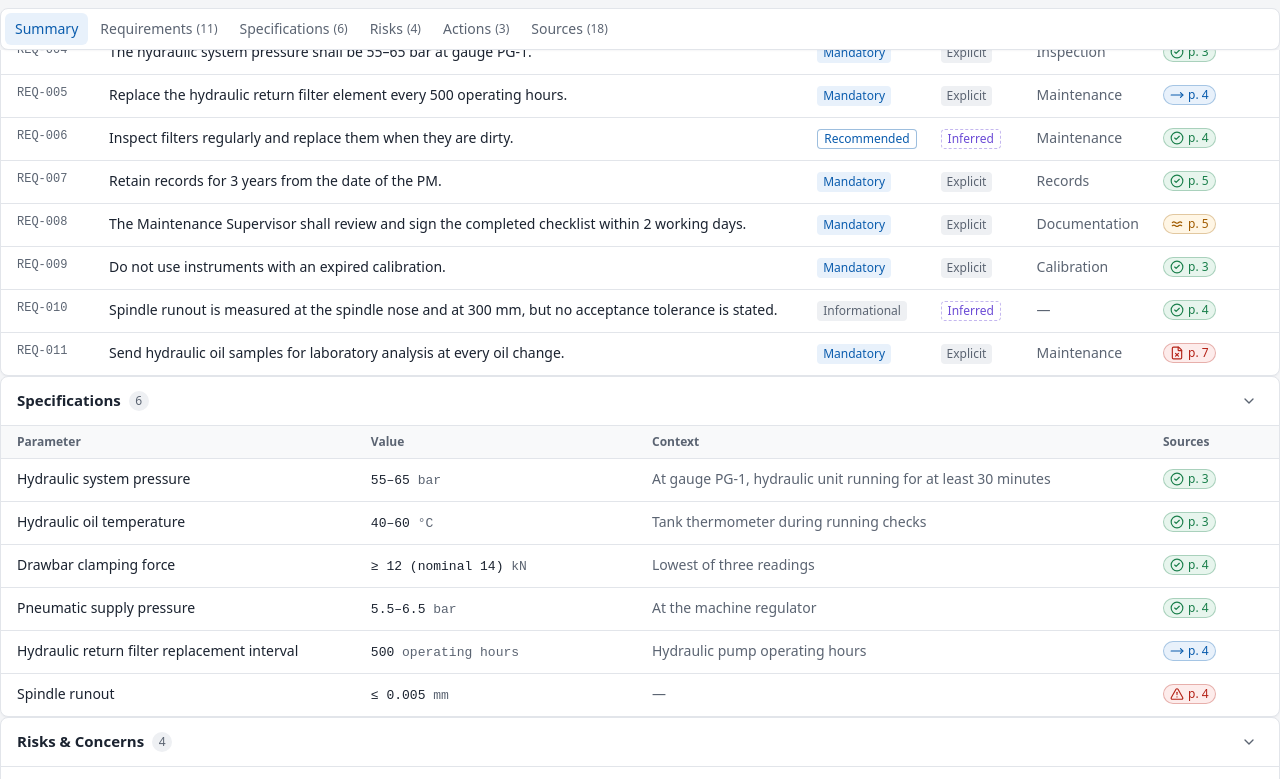
ReportView › collapses and expands a section
The width and height of the screenshot is (1280, 779).
(page scrolled)
Click the button named "Collapse Specifications" at (1249, 401), box x1=1235 y1=387 x2=1263 y2=415
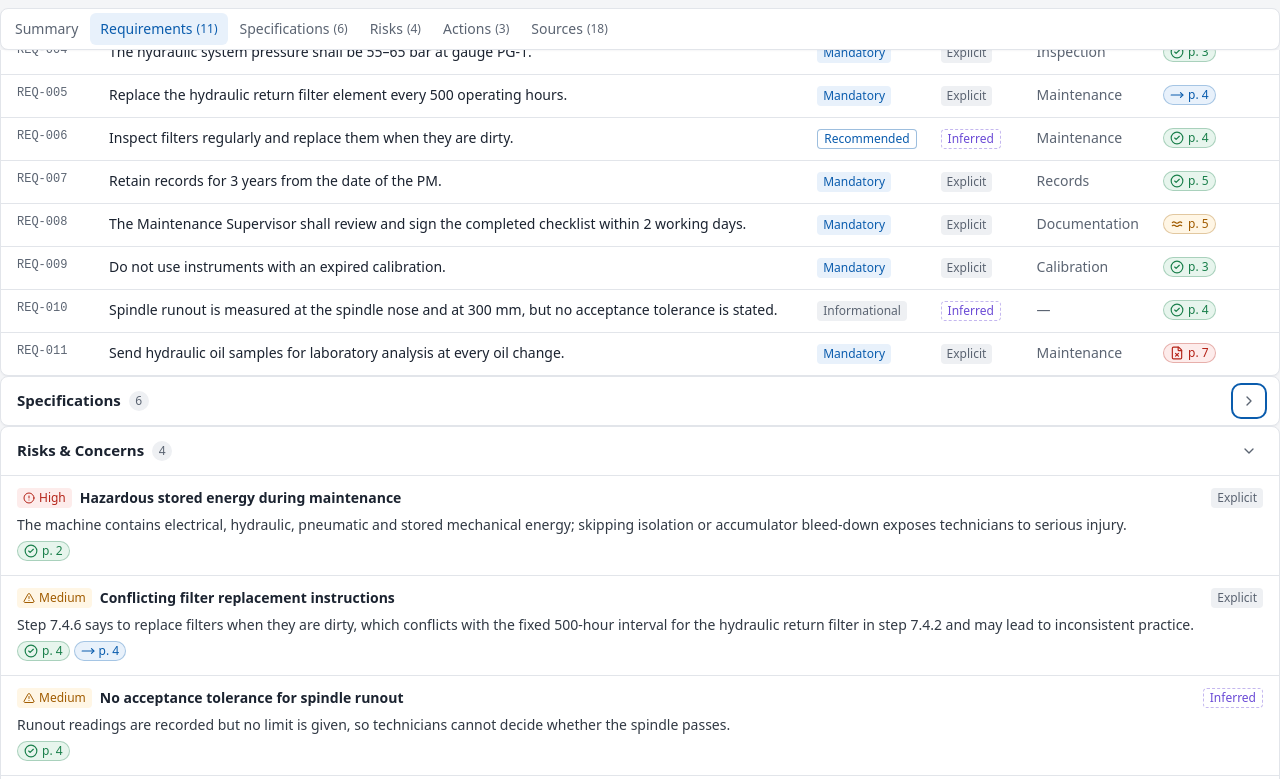
Expected: the text "Drawbar clamping force" is not shown
Expected: the button named "Expand Specifications" is collapsed, x1=1235 y1=387 x2=1263 y2=415
